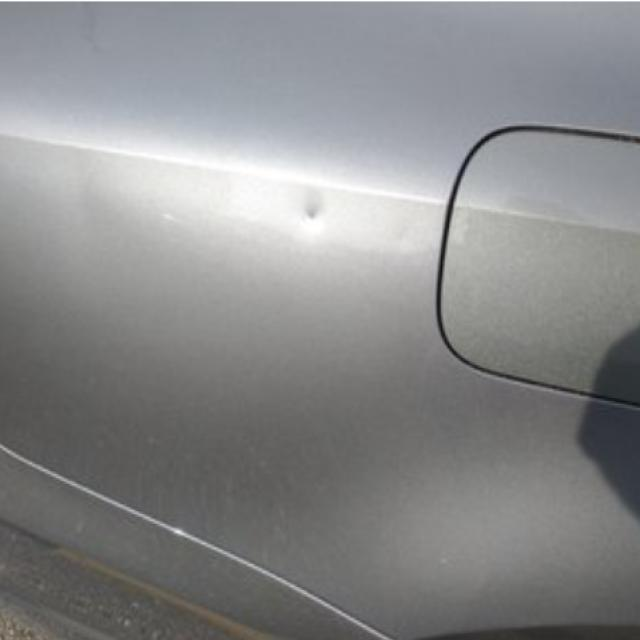dents: (255, 172, 347, 256)
